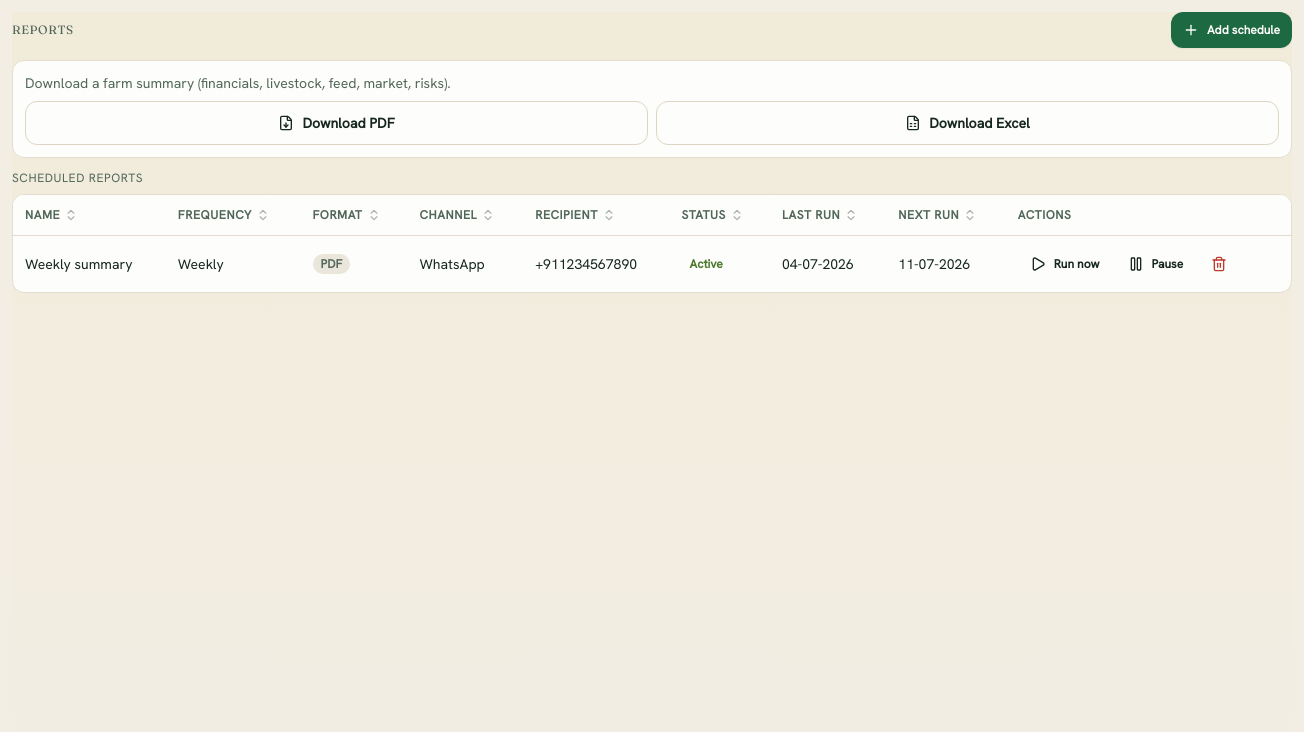
Test: ReportsPanel › run-now posts to the run endpoint and toasts the result
Click the button "Run now" at (1065, 264), box [1018, 246, 1112, 282]
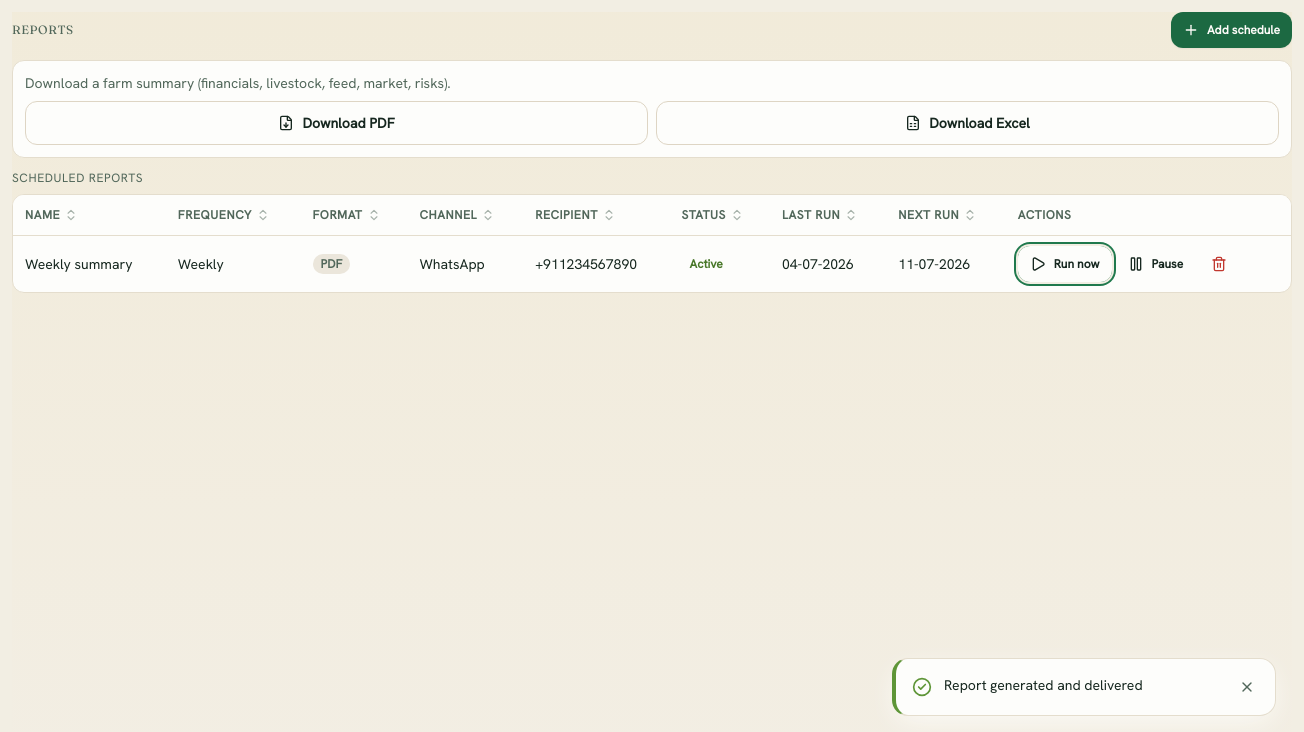
Expected: the text "Report generated and delivered" is shown, [944, 676, 1143, 694]
